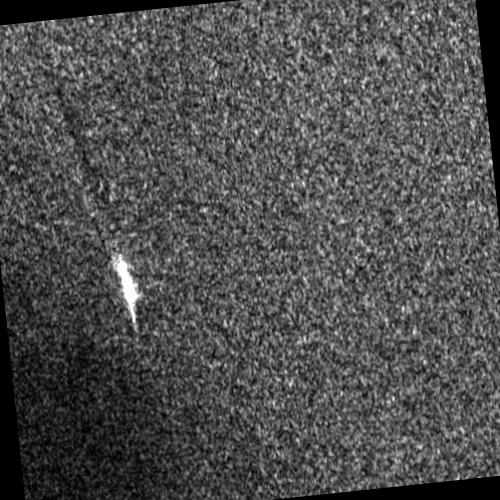ship: (113, 254, 139, 321)
